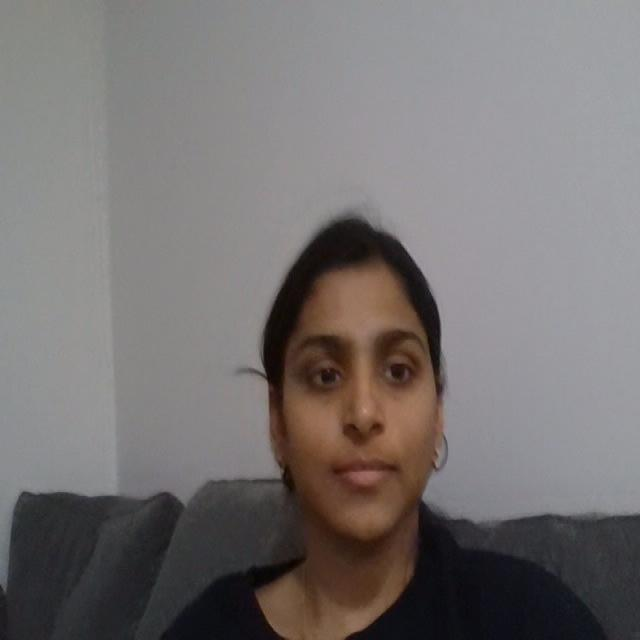No Hat: (257, 165, 453, 324)
